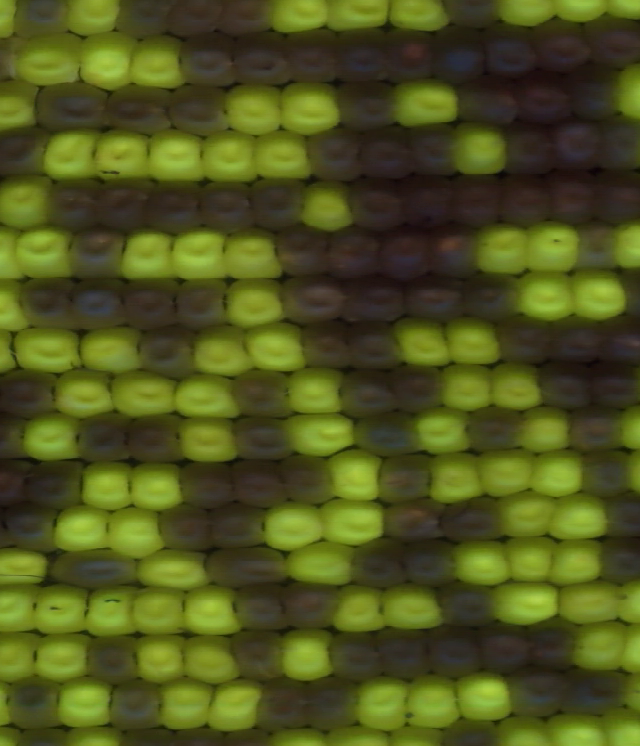fluorescent: (185, 318, 262, 381), (563, 262, 636, 325), (12, 28, 86, 90), (372, 577, 451, 635), (388, 310, 458, 375), (473, 444, 546, 506), (105, 365, 184, 422), (313, 491, 392, 548), (49, 362, 122, 423), (217, 273, 292, 332), (519, 217, 589, 280), (73, 321, 149, 379), (240, 318, 312, 379), (173, 627, 246, 687), (274, 78, 345, 139), (170, 368, 247, 424), (215, 225, 288, 284), (195, 125, 262, 189), (145, 125, 212, 189), (12, 321, 87, 378), (166, 224, 236, 285), (512, 265, 582, 326), (282, 409, 364, 461), (385, 75, 461, 131), (255, 498, 327, 557), (12, 221, 78, 285), (446, 116, 512, 180), (30, 578, 97, 641), (295, 175, 362, 237), (102, 502, 169, 564), (398, 671, 465, 733), (470, 218, 538, 279), (116, 226, 185, 286), (443, 536, 518, 591), (552, 577, 628, 631), (74, 29, 136, 95), (89, 125, 157, 185), (126, 581, 194, 641), (132, 546, 216, 594), (224, 76, 286, 141), (442, 311, 508, 372), (180, 581, 247, 641), (282, 364, 355, 419), (125, 30, 187, 94), (131, 628, 197, 688), (281, 538, 357, 590), (408, 402, 478, 458), (39, 125, 103, 186), (275, 625, 340, 685), (28, 628, 94, 687), (566, 616, 632, 675), (491, 575, 564, 628), (173, 411, 243, 466), (250, 125, 314, 185), (52, 674, 118, 732), (325, 445, 387, 506), (452, 666, 514, 727), (0, 171, 60, 234), (203, 675, 267, 734), (493, 485, 559, 542), (524, 444, 590, 501), (76, 453, 137, 514), (499, 531, 564, 588), (18, 409, 86, 463), (78, 583, 141, 641), (434, 359, 499, 415), (425, 448, 491, 503), (155, 675, 215, 735), (328, 579, 390, 637), (545, 491, 614, 543), (545, 533, 610, 588), (49, 501, 115, 555), (125, 458, 186, 515), (354, 672, 411, 731), (488, 360, 548, 415), (517, 401, 575, 456), (382, 1, 464, 38), (0, 577, 48, 640), (0, 542, 56, 591), (0, 76, 47, 134), (0, 625, 45, 685), (542, 710, 617, 746), (267, 1, 337, 38), (320, 1, 396, 35), (61, 1, 125, 40), (492, 712, 558, 746), (0, 219, 31, 288), (610, 58, 640, 125), (0, 273, 32, 335), (594, 705, 640, 746), (609, 216, 640, 274)
nonfluorescent: (202, 541, 298, 591), (100, 79, 178, 140), (32, 79, 114, 137), (328, 24, 402, 88), (275, 270, 356, 328), (15, 269, 86, 335), (347, 406, 429, 463), (223, 28, 297, 91), (271, 449, 349, 508), (50, 545, 149, 591), (503, 665, 582, 722), (426, 21, 492, 89), (131, 323, 202, 386), (295, 670, 363, 735), (122, 410, 194, 471), (64, 271, 133, 334), (138, 175, 208, 237), (342, 173, 412, 235), (302, 127, 374, 187), (555, 666, 636, 719), (452, 70, 526, 128), (372, 221, 438, 286), (172, 29, 241, 91), (478, 19, 547, 81), (192, 176, 263, 236), (392, 173, 465, 231), (165, 78, 232, 141), (102, 674, 170, 736), (352, 121, 420, 183), (510, 65, 578, 127), (434, 494, 512, 548), (495, 117, 564, 178), (561, 60, 629, 121), (225, 368, 299, 424), (248, 675, 317, 735), (243, 173, 314, 231), (561, 398, 632, 456), (525, 15, 597, 72), (538, 165, 602, 229), (294, 313, 360, 375), (544, 311, 613, 370), (224, 455, 295, 512), (275, 578, 346, 635), (6, 673, 72, 734), (65, 222, 132, 282), (433, 578, 506, 633), (169, 272, 237, 331), (454, 270, 531, 322), (176, 455, 246, 512), (342, 317, 412, 374), (401, 271, 471, 328), (0, 363, 64, 425), (578, 10, 640, 74), (226, 581, 298, 636), (425, 621, 491, 681), (545, 113, 611, 173), (335, 274, 411, 326), (278, 25, 340, 88), (327, 627, 390, 689), (83, 632, 147, 693), (323, 224, 388, 284), (270, 221, 335, 281), (372, 625, 437, 685), (346, 535, 412, 594), (492, 311, 558, 370), (89, 174, 156, 232), (25, 457, 94, 513), (423, 218, 485, 280), (402, 118, 465, 179), (228, 627, 293, 686), (42, 175, 108, 233), (333, 77, 399, 135), (381, 22, 441, 85), (444, 171, 508, 230), (375, 492, 452, 541), (117, 278, 183, 335), (573, 446, 639, 503), (463, 401, 530, 457), (228, 411, 297, 465), (71, 409, 134, 468), (474, 618, 538, 676), (372, 451, 437, 508), (207, 499, 275, 553), (495, 171, 556, 231), (395, 535, 461, 590), (535, 355, 595, 415), (524, 612, 585, 671), (386, 361, 452, 415), (335, 364, 398, 419), (586, 165, 640, 228), (0, 121, 57, 179), (159, 501, 215, 558), (591, 111, 640, 176), (568, 215, 621, 275), (2, 500, 61, 553), (7, 1, 74, 45), (159, 1, 229, 43), (586, 361, 640, 411), (111, 1, 178, 41), (595, 533, 640, 588), (215, 1, 278, 40), (594, 313, 640, 366), (436, 1, 509, 34), (598, 488, 640, 541), (0, 452, 39, 509), (0, 408, 35, 467), (435, 717, 504, 746), (14, 723, 73, 746)
